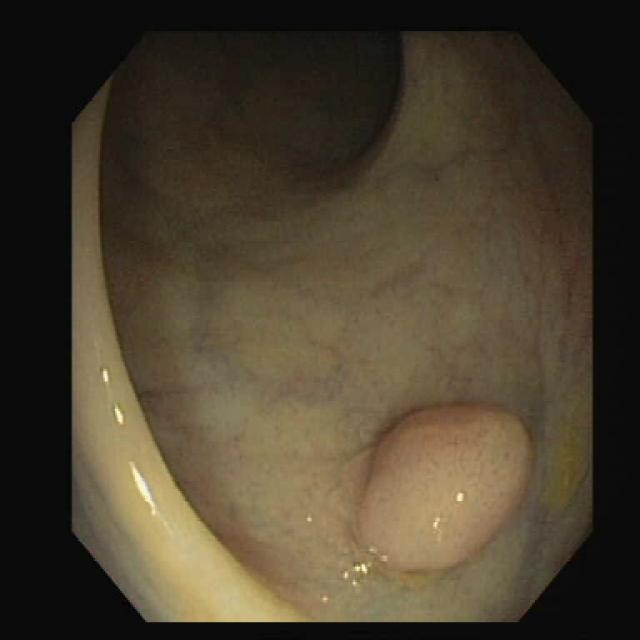tumor: (357, 404, 530, 567)
